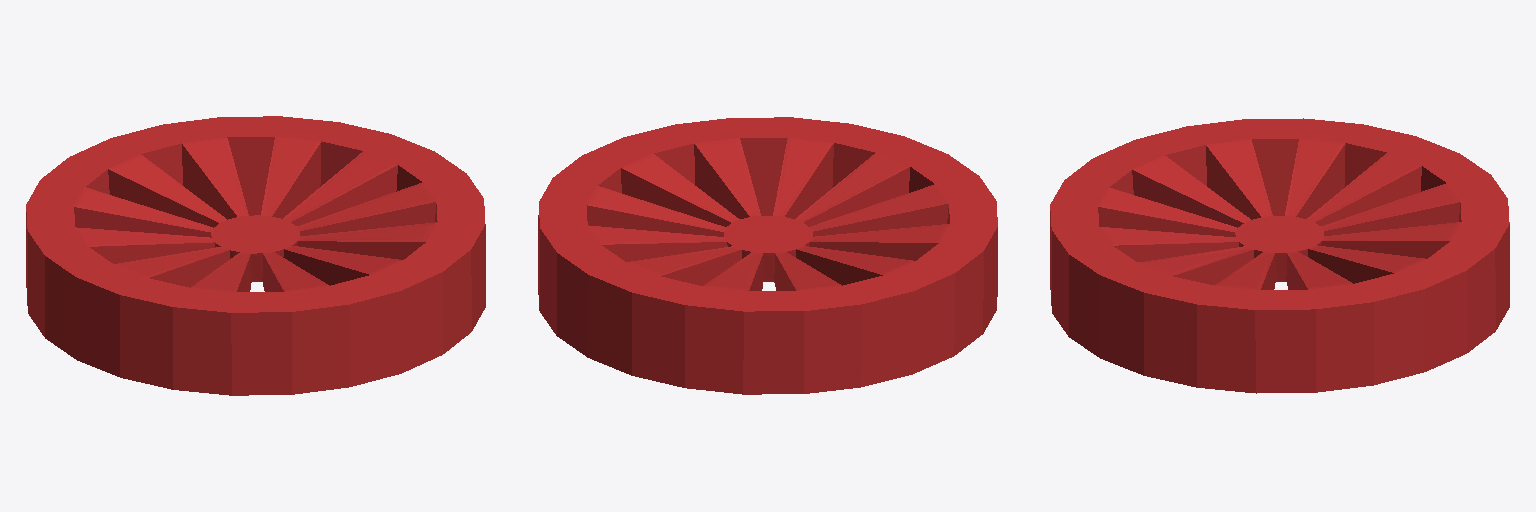
The model's file is wheel_1.obj.
The picture shows the model from 3 angles: view 1: azimuth 30°, elevation 25°; view 2: azimuth 150°, elevation 25°; view 3: azimuth 270°, elevation 25°; orthographic projection.
Visible parts, largest first — view 1: Wheel_Cylinder; view 2: Wheel_Cylinder; view 3: Wheel_Cylinder.
Boxes of the visible parts, <box> form: Wheel_Cylinder: <box>26,116,485,395</box>; Wheel_Cylinder: <box>538,117,997,394</box>; Wheel_Cylinder: <box>1050,118,1509,393</box>.
Size of the model in its own units: 0.8484 by 0.1748 by 0.8478.